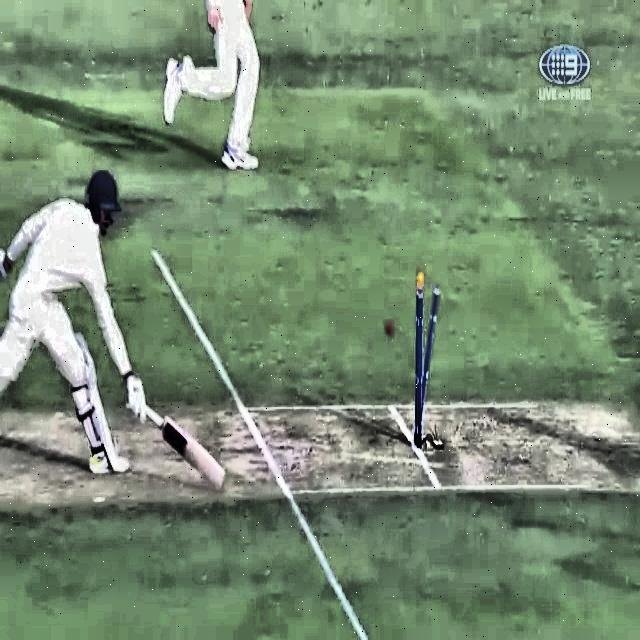Ball: (379, 315, 402, 345)
Bat: (131, 397, 234, 493)
Dis_Wicket: (398, 264, 447, 457)
Pitch_Line: (150, 246, 367, 640)
